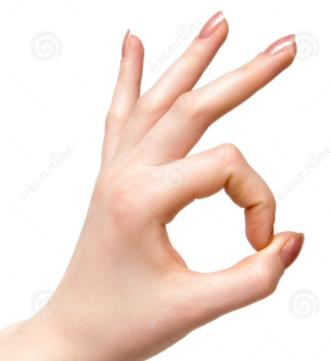left: (52, 6, 319, 334)
